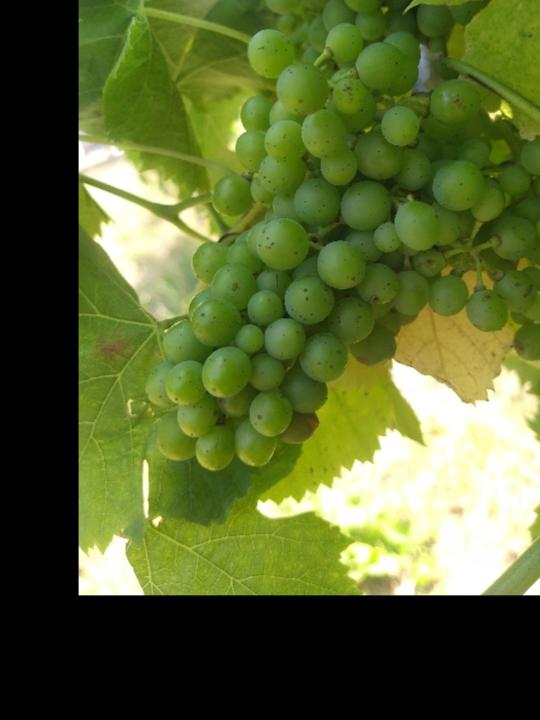grape: (144, 19, 540, 470)
